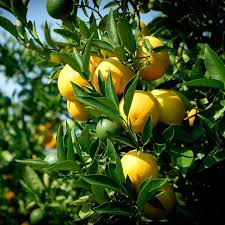orange: (90, 50, 132, 96), (56, 52, 94, 99), (131, 34, 169, 80), (117, 91, 157, 134), (117, 149, 160, 189), (148, 85, 185, 126)
